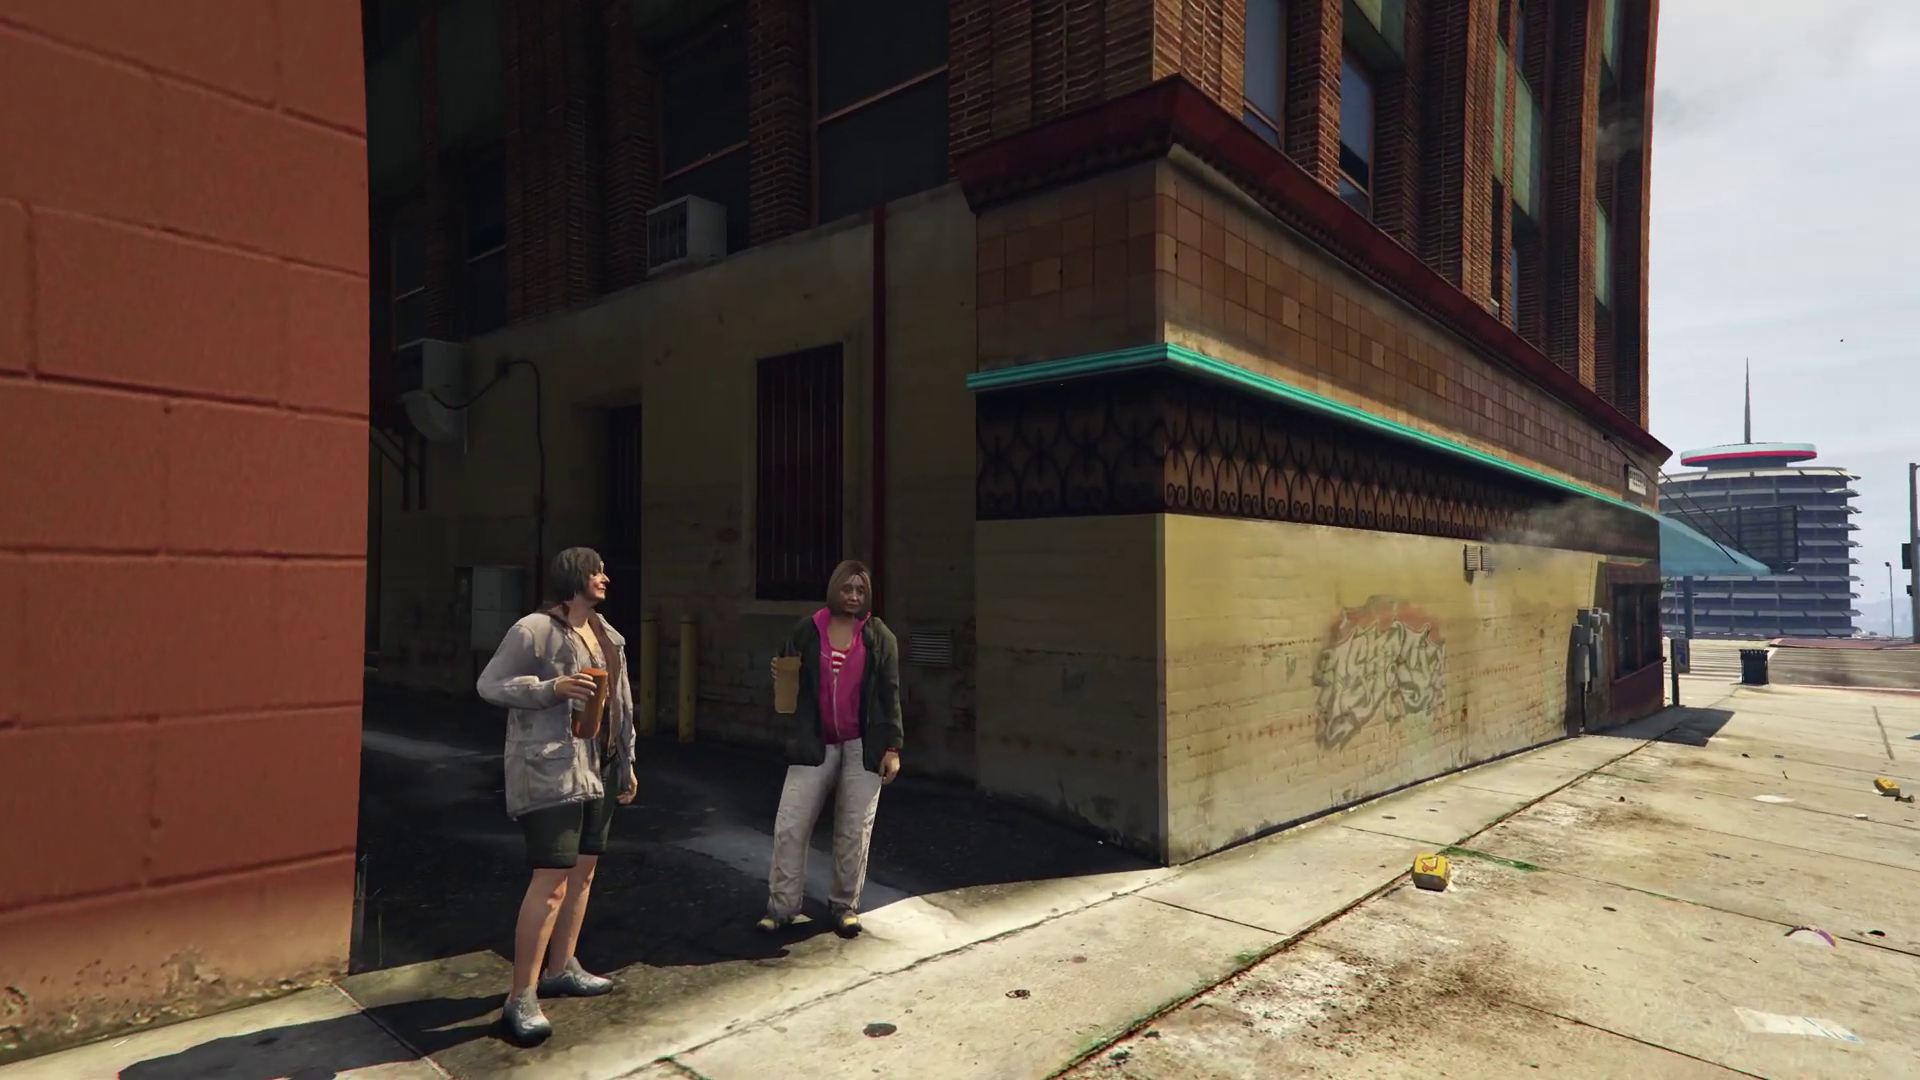person: (476, 548, 638, 1047), (758, 560, 899, 939)
